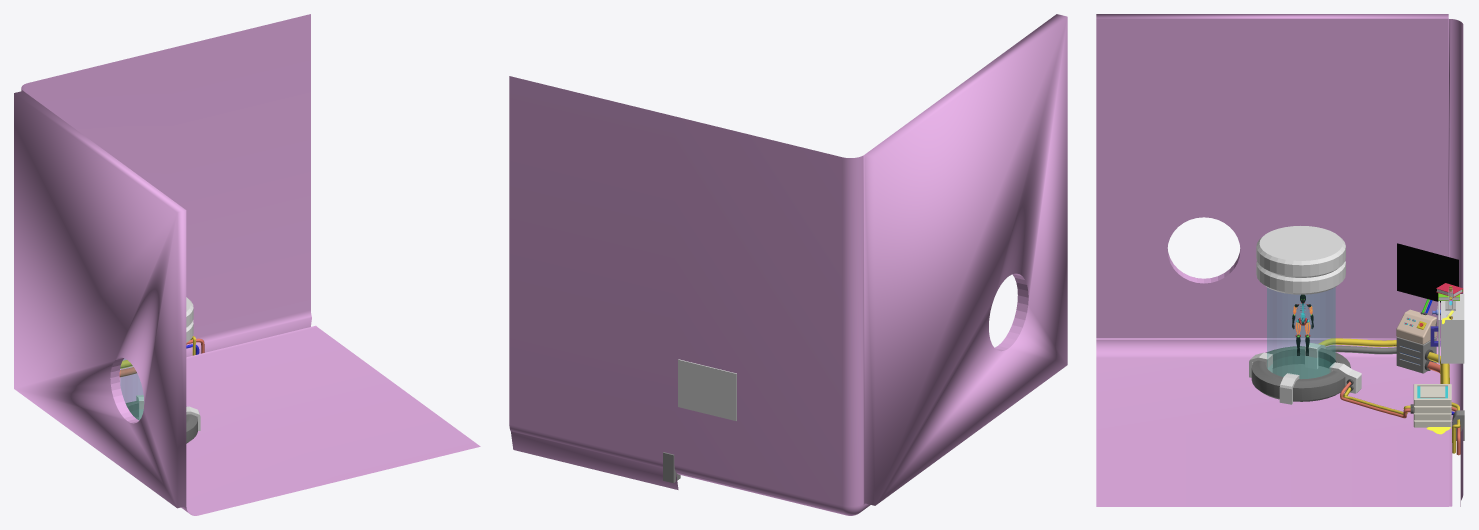
File: seconsEsMod14.glb
3 renders of one model, left to right at view 1: azimuth 30°, elevation 25°; view 2: azimuth 150°, elevation 25°; view 3: azimuth 270°, elevation 25°, orthographic. The views are drawn at different scales.
Visible parts, largest first — view 1: paredes, base, cupula; view 2: paredes, casillero; view 3: paredes, base, cupula, SMART, casillero, basecontrol, control, energy, i-robot obj, cablepared.006, cablepared.005.
Boxes of the visible parts, x1=… form: paredes: x1=14, y1=14, x2=480, y2=515; base: x1=126, y1=297, x2=200, y2=443; cupula: x1=120, y1=358, x2=143, y2=419; paredes: x1=509, y1=14, x2=1067, y2=515; casillero: x1=678, y1=359, x2=736, y2=421; paredes: x1=1096, y1=14, x2=1463, y2=506; base: x1=1249, y1=226, x2=1361, y2=404; cupula: x1=1267, y1=287, x2=1335, y2=378; SMART: x1=1397, y1=243, x2=1458, y2=302; casillero: x1=1430, y1=294, x2=1464, y2=363; basecontrol: x1=1396, y1=337, x2=1436, y2=373; control: x1=1396, y1=309, x2=1436, y2=344; energy: x1=1413, y1=384, x2=1451, y2=405; i-robot obj: x1=1292, y1=294, x2=1313, y2=355; cablepared.006: x1=1319, y1=338, x2=1396, y2=346; cablepared.005: x1=1325, y1=345, x2=1396, y2=354.
Size of the model in its own units: 10.38 by 10.37 by 10.1.
Materials: 42 (1 with a texture image).
